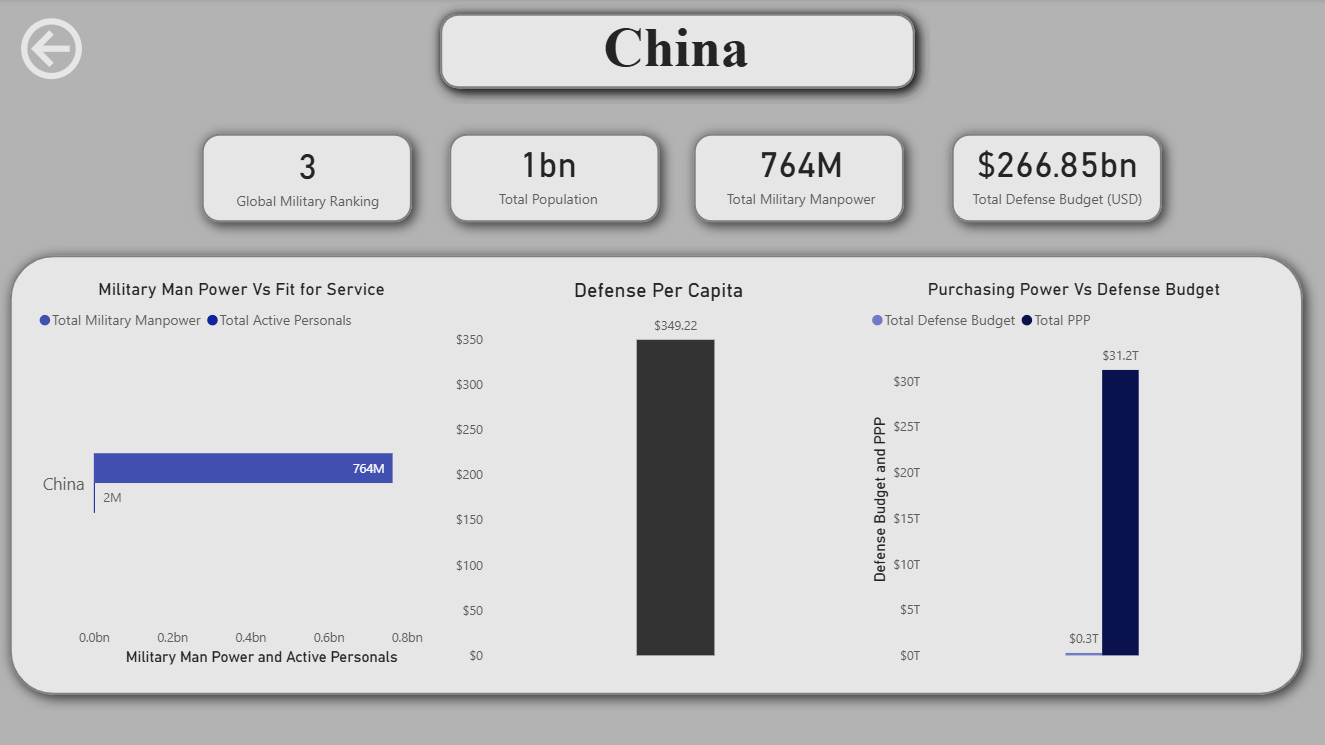

What the dashboard file says about the page in this screenshot:
{"tool":"powerbi","page":{"name":"Country Strategic Profile","canvas":[1280,720],"ordinal":1},"visuals":[{"type":"actionButton","box":[20,13.3,70,71.7],"z":0},{"type":"group","id":"g1","title":"Background","box":[0.6,0,1270,683.3],"z":1000},{"type":"card","fields":{"Values":["Imp_Measures.Total Population"]},"box":[431.5,115.1,199.2,100.6],"z":2000},{"type":"card","fields":{"Values":["Imp_Measures.Total Military Manpower"]},"box":[673.7,115.7,200.6,100.3],"z":3000},{"type":"shape","title":"kpi1_bg","box":[421.7,114.5,231.7,115],"z":4000,"group":"g1"},{"type":"card","fields":{"Values":["Imp_Measures.Total Defense Budget"]},"box":[918.2,115.1,203.3,100.6],"z":4000},{"type":"clusteredBarChart","title":"Military Man Power Vs Fit for Service ","fields":{"Category":["global_military_expenditure.country"],"Y":["Imp_Measures.Total Military Manpower","Imp_Measures.Total Active Personals"]},"box":[37.2,268.3,400,375],"z":5000},{"type":"card","fields":{"Values":["Imp_Measures.Country Selected"]},"box":[408.3,0,490,85],"z":6000},{"type":"shape","title":"kpi2_bg","box":[656.7,114.5,231.7,115],"z":6000,"group":"g1"},{"type":"shape","title":"kpi3_bg","box":[903.4,114.5,231.7,115],"z":7000,"group":"g1"},{"type":"clusteredColumnChart","title":"Defense Per Capita","fields":{"Category":["global_military_expenditure.country"],"Y":["Imp_Measures.defense per capita"]},"box":[437.2,268.3,400,375],"z":7000},{"type":"shape","title":"kpi4_bg","box":[185,114.5,231.7,115],"z":7500,"group":"g1"},{"type":"card","fields":{"Values":["Sum(global_military_expenditure.rank)"]},"box":[201.7,116.1,198.3,101.7],"z":8000},{"type":"shape","title":"Plot_bg","box":[0.6,231.7,1270,451.7],"z":8000,"group":"g1"},{"type":"shape","title":"Title_bg","box":[413.4,0,485,101.7],"z":8500,"group":"g1"},{"type":"clusteredColumnChart","title":"Purchasing Power Vs Defense Budget","fields":{"Category":["global_military_expenditure.country"],"Y":["Imp_Measures.Total Defense Budget","Imp_Measures.Total PPP"]},"box":[835.6,268.3,400,375],"z":9000}]}

Visuals, with their boxes in screenshot pixels (x1, y1, x2, y2), scaled from the page's 1280x720 canvas onto the 1325x745 screenshot:
actionButton: (left=21, top=14, right=93, bottom=88)
"Background" group: (left=1, top=0, right=1315, bottom=707)
card - Imp_Measures.Total Population: (left=447, top=119, right=653, bottom=223)
card - Imp_Measures.Total Military Manpower: (left=697, top=120, right=905, bottom=224)
"kpi1_bg" shape: (left=437, top=118, right=676, bottom=237)
card - Imp_Measures.Total Defense Budget: (left=950, top=119, right=1161, bottom=223)
"Military Man Power Vs Fit for Service " clusteredBarChart: (left=39, top=278, right=453, bottom=666)
card - Imp_Measures.Country Selected: (left=423, top=0, right=930, bottom=88)
"kpi2_bg" shape: (left=680, top=118, right=920, bottom=237)
"kpi3_bg" shape: (left=935, top=118, right=1175, bottom=237)
"Defense Per Capita" clusteredColumnChart: (left=453, top=278, right=867, bottom=666)
"kpi4_bg" shape: (left=192, top=118, right=431, bottom=237)
card - Sum(global_military_expenditure.rank): (left=209, top=120, right=414, bottom=225)
"Plot_bg" shape: (left=1, top=240, right=1315, bottom=707)
"Title_bg" shape: (left=428, top=0, right=930, bottom=105)
"Purchasing Power Vs Defense Budget" clusteredColumnChart: (left=865, top=278, right=1279, bottom=666)
